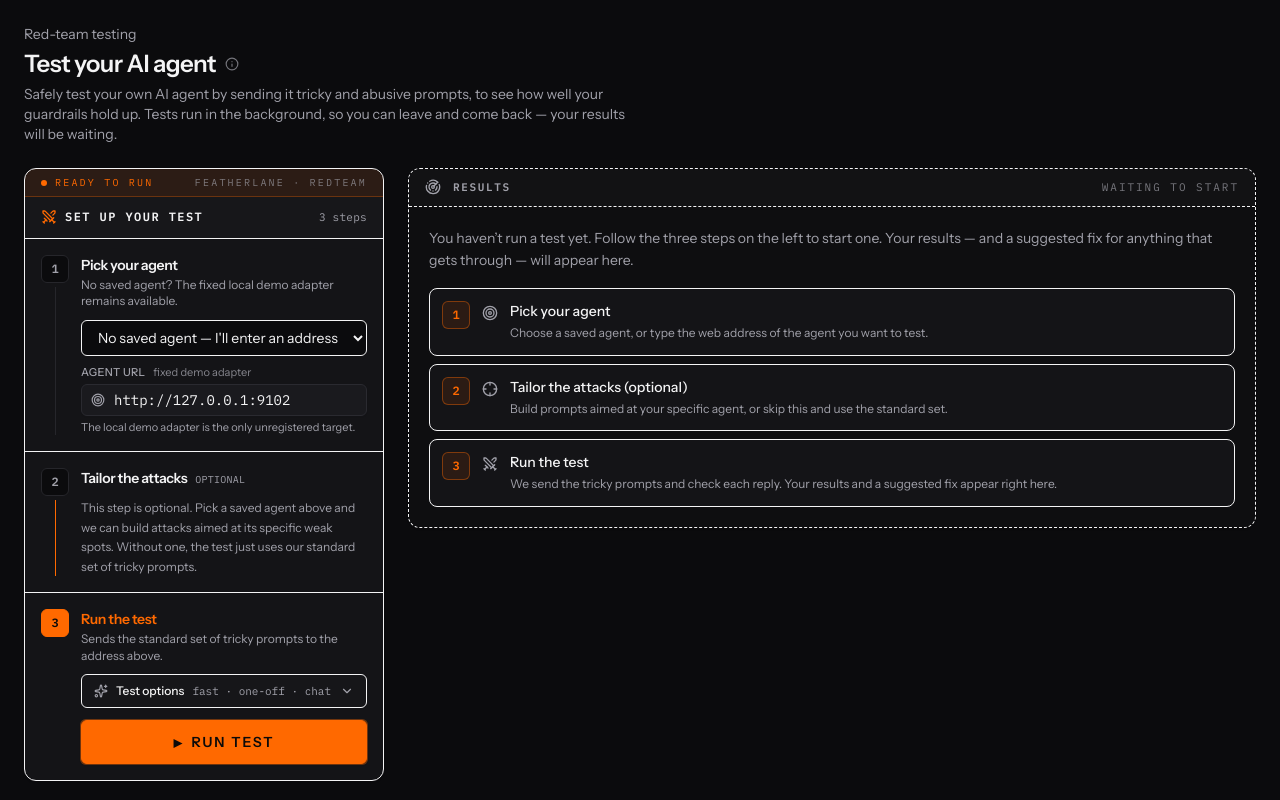
AttacksPanel — stale result clearing › auto-fills the target from the selected agent (agent-first)
// The agent appears in the picker once listAgents resolves.
Select "Tax Agent · workflow" in the dropdown named "Agent": (224, 338) [81, 320, 367, 356]
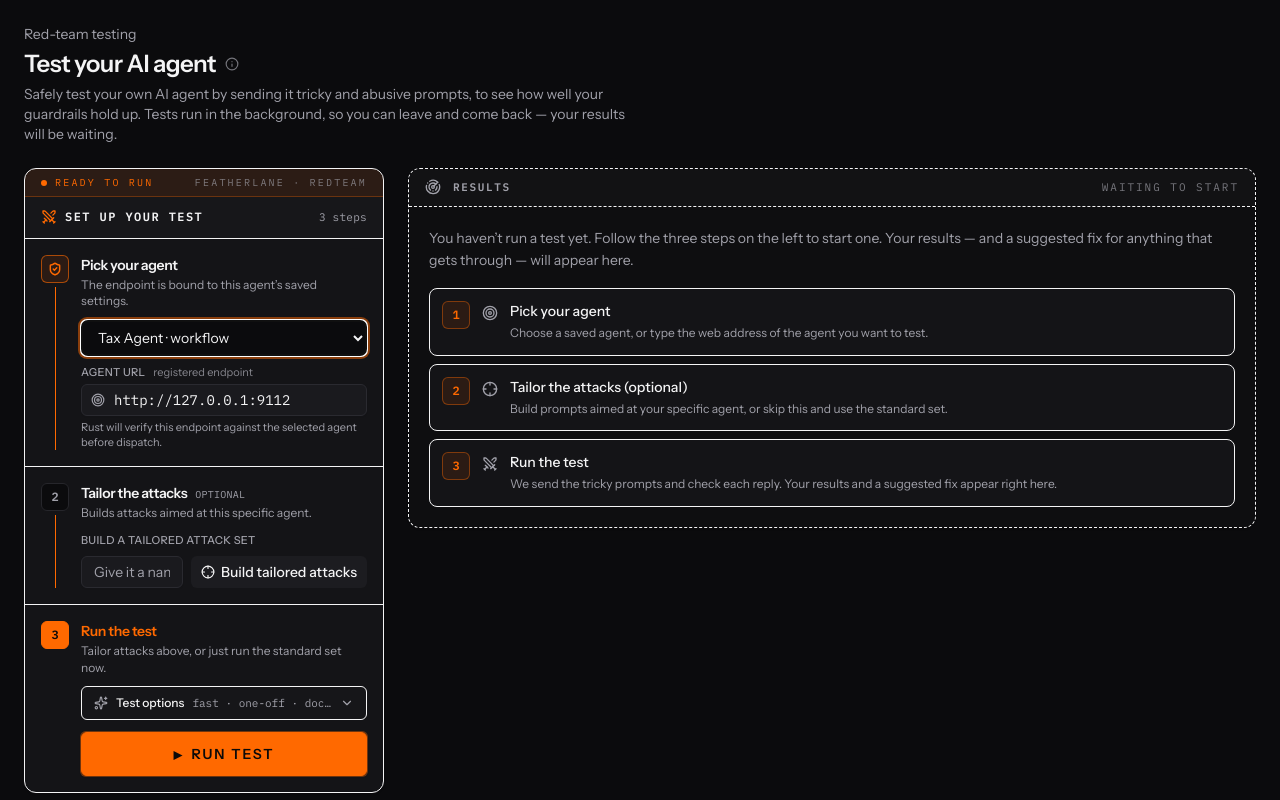
Expected: the field labelled "Agent URL" holds "http://127.0.0.1:9112", [81, 384, 367, 416]
